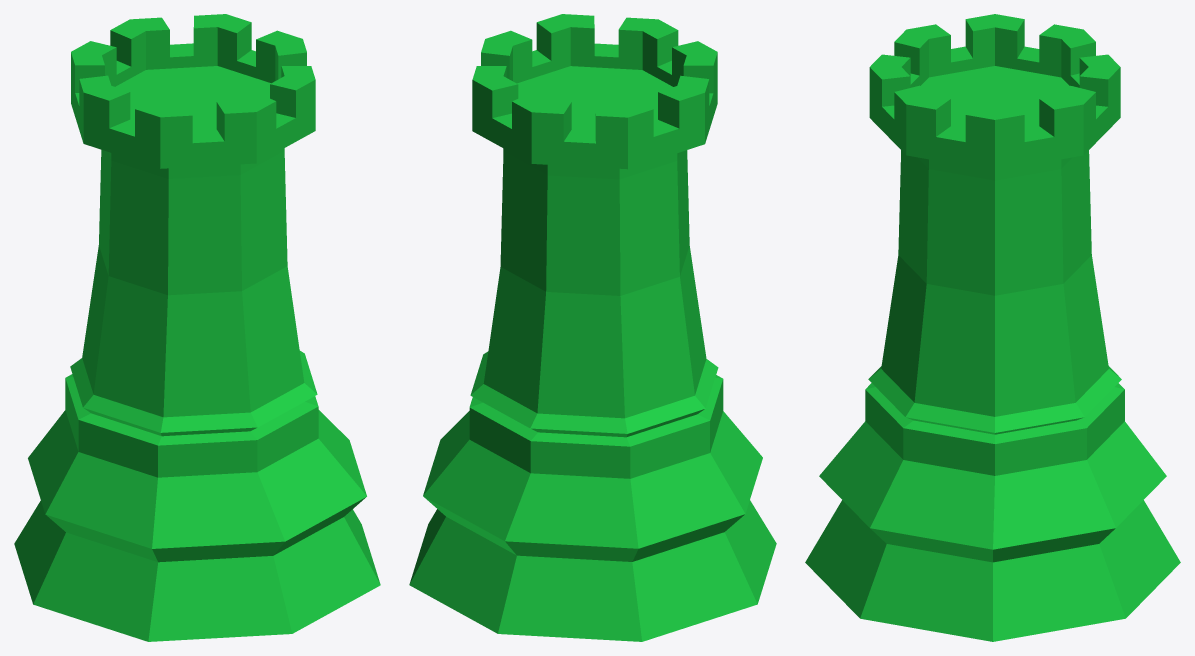
The model's file is ChessRook.obj.
The picture shows the model from 3 angles, left to right: view 1: azimuth 30°, elevation 25°; view 2: azimuth 150°, elevation 25°; view 3: azimuth 270°, elevation 25°; orthographic projection.
Parts seen in each view (by area): view 1: White_Rook_2_Cylinder.003; view 2: White_Rook_2_Cylinder.003; view 3: White_Rook_2_Cylinder.003.
Part boxes in pixels (x1,y1,x2,y2): White_Rook_2_Cylinder.003: [14, 14, 380, 641]; White_Rook_2_Cylinder.003: [409, 14, 776, 641]; White_Rook_2_Cylinder.003: [805, 14, 1180, 641].
Bounding box in the file's own units: 4 × 5.8 × 4.
